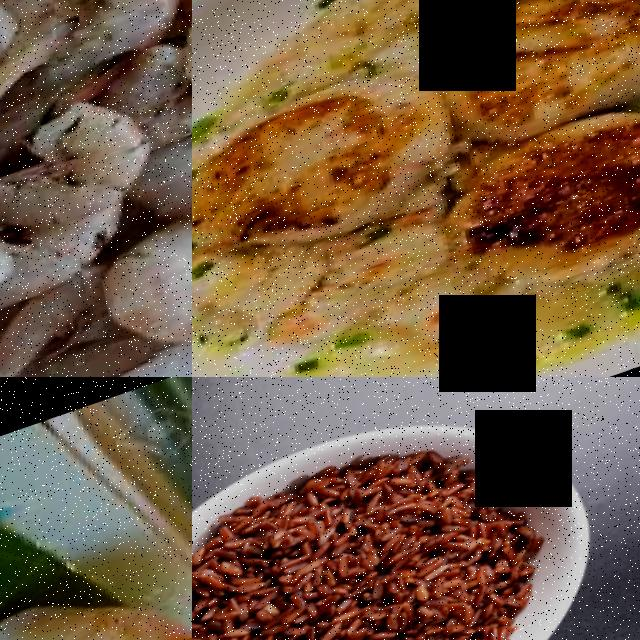red rice: (192, 421, 576, 640)
sea scallops: (192, 52, 486, 279), (438, 83, 640, 310), (433, 0, 640, 161)
shrimp: (0, 89, 174, 251), (96, 198, 192, 377), (125, 90, 192, 250), (37, 0, 192, 69)
